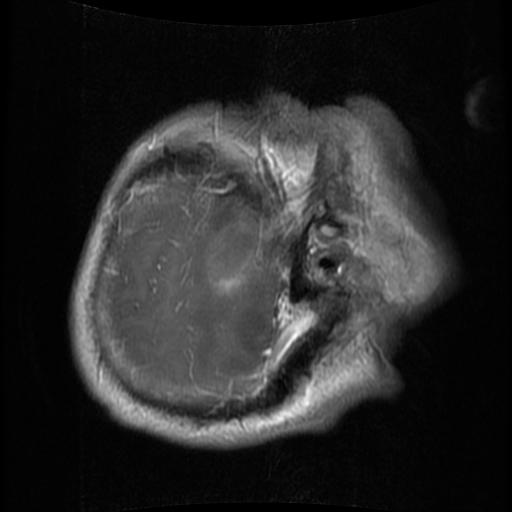glioma: (206, 218, 255, 290)
